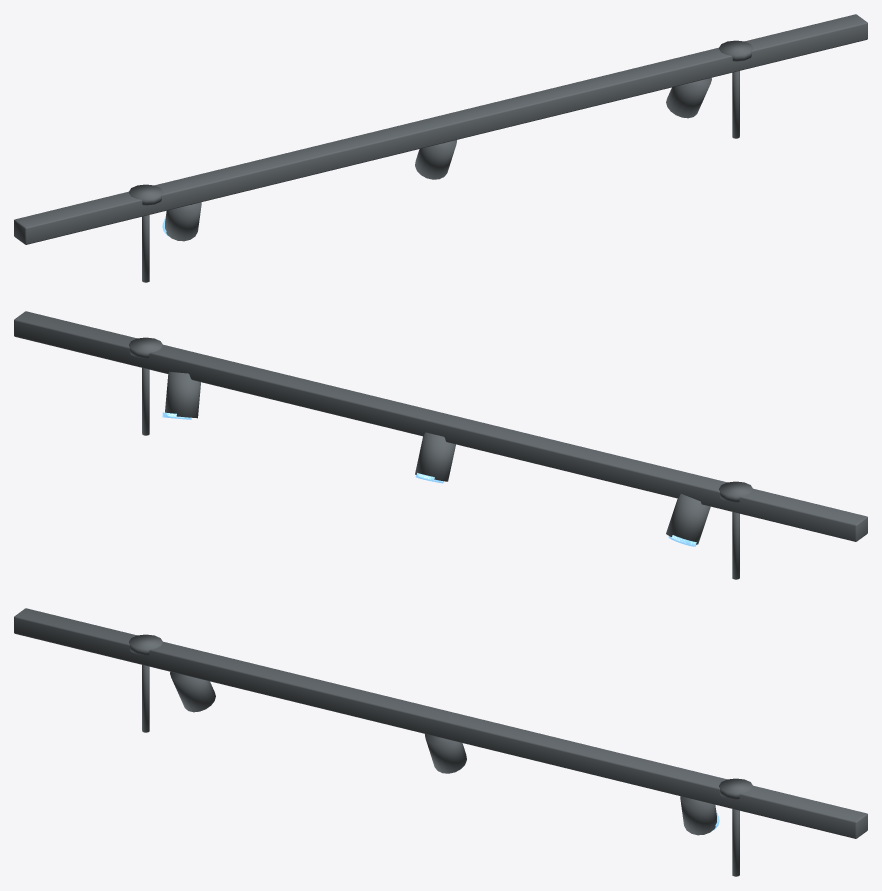
File: architecture.ceiling-track.glb
3 renders of one model, top to bottom at view 1: azimuth 30°, elevation 25°; view 2: azimuth 150°, elevation 25°; view 3: azimuth 330°, elevation 25°, orthographic.
Visible parts, largest first — view 1: architecture.ceiling-track; view 2: architecture.ceiling-track; view 3: architecture.ceiling-track.
Boxes of the visible parts, bbox=[...] form: architecture.ceiling-track: bbox=[14, 14, 867, 282]; architecture.ceiling-track: bbox=[14, 311, 867, 579]; architecture.ceiling-track: bbox=[14, 608, 867, 876].
Bounding box in the file's own units: 2 × 0.2025 × 0.1093.
Materials: 2 (1 with a texture image).
